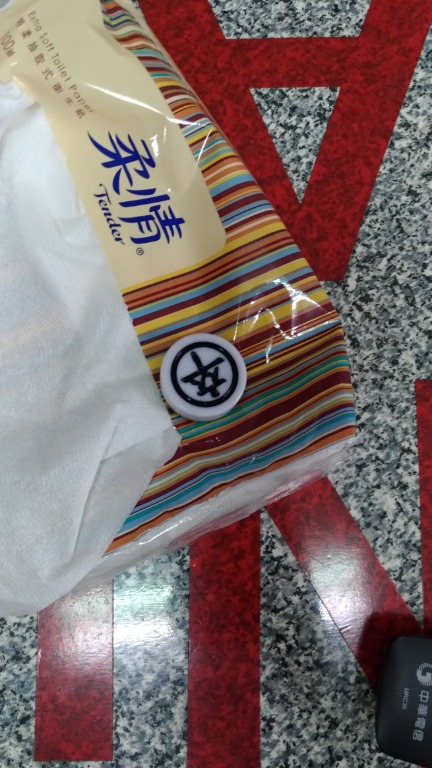b-pawn: (143, 325, 266, 432)
